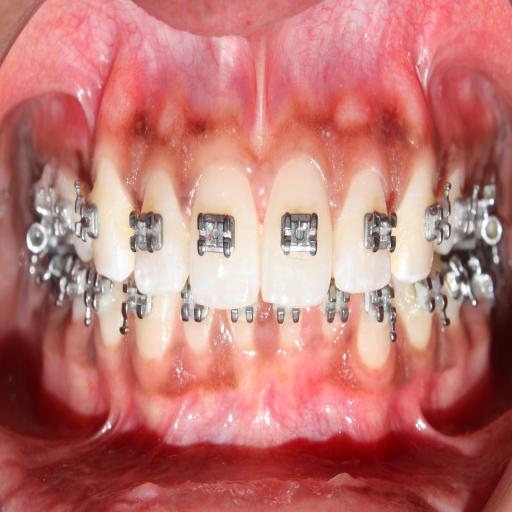correct_brace: (277, 206, 326, 262), (357, 194, 398, 258), (128, 204, 169, 264), (198, 204, 236, 266)
incorrect_brace: (332, 164, 398, 292), (128, 162, 189, 299)
